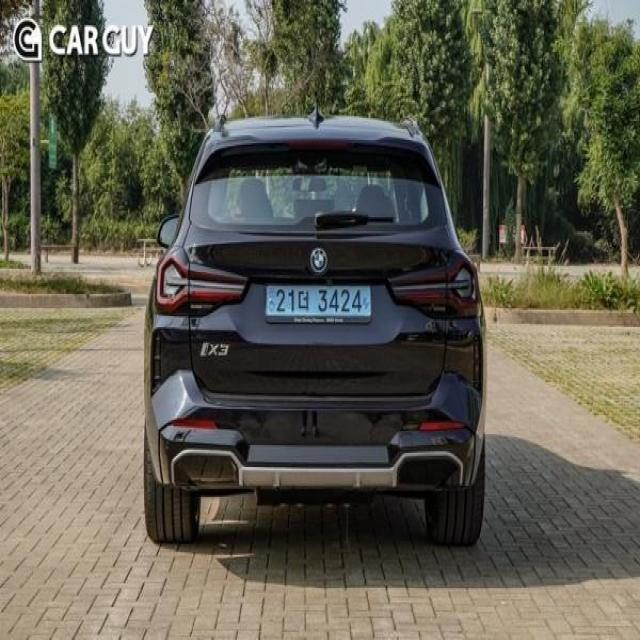EV_plate: (265, 278, 376, 329)
car: (135, 101, 492, 563)
